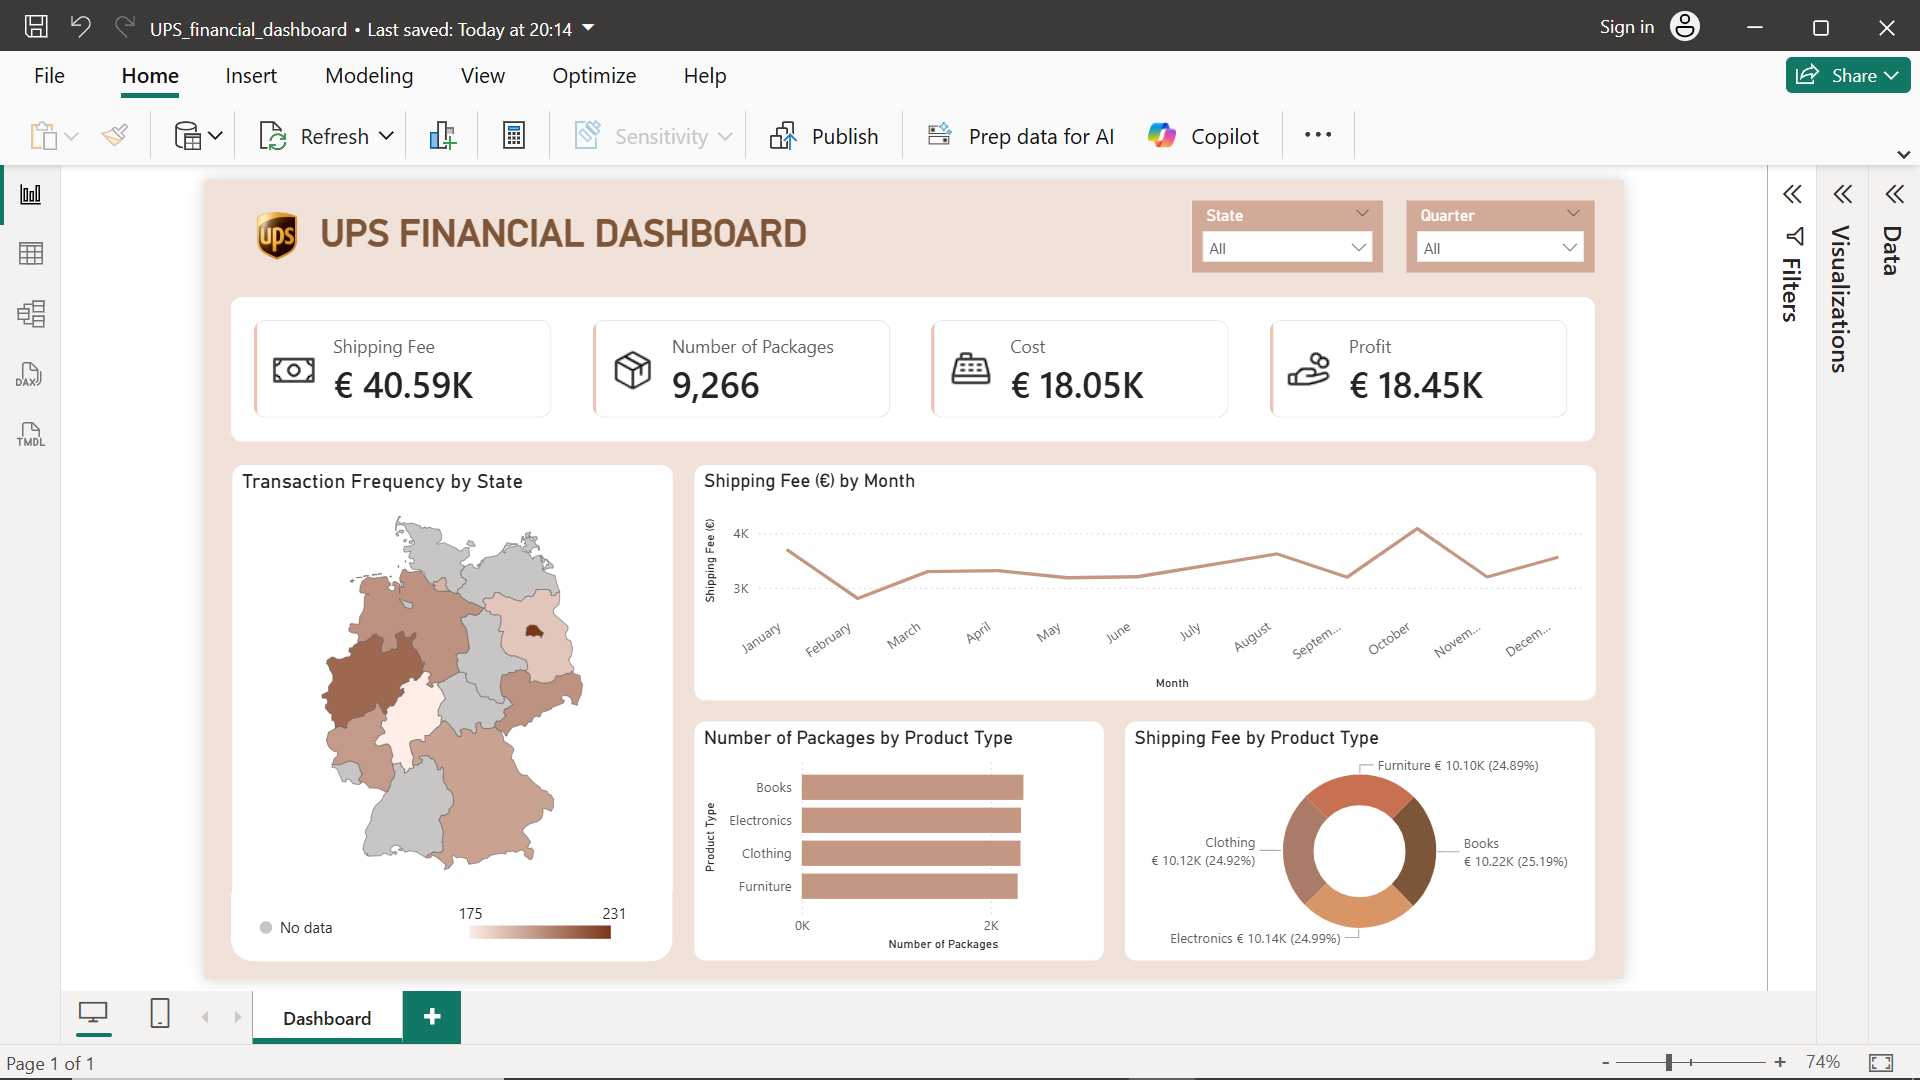

This screenshot's page, from the dashboard's own definition file:
{"tool":"powerbi","page":{"name":"Dashboard","canvas":[1280,720],"ordinal":0},"visuals":[{"type":"shape","box":[23.9,625.6,397.8,78.3],"z":0,"group":"g4"},{"type":"shapeMap","title":"Transaction Frequency by State ","fields":{"Category":["sales.State"],"Value":["CountNonNull(sales.State)"]},"box":[25,256.7,396.7,391.7],"z":1000,"group":"g5"},{"type":"lineChart","fields":{"Category":["sales.Shipment_Date.Variation.Date Hierarchy.Year","sales.Shipment_Date.Variation.Date Hierarchy.Quarter","sales.Shipment_Date.Variation.Date Hierarchy.Month","sales.Shipment_Date.Variation.Date Hierarchy.Day"],"Y":["Sum(sales.Shipping_Fee_EUR)"]},"box":[441.7,256.7,811.7,211.7],"z":2000},{"type":"cardVisual","fields":{"Data":["Sum(sales.Shipping_Fee_EUR)","Sum(sales.Number_of_Packages)","Sum(cost.Cost_EUR)","Sum(sales.Profit_EUR)"]},"box":[24.2,106.1,1228.8,130.3],"z":3000},{"type":"slicer","fields":{"Values":["sales.State"]},"box":[889.4,17.2,174.2,66.7],"z":4000},{"type":"slicer","fields":{"Values":["sales.Shipment_Date.Variation.Date Hierarchy.Quarter"]},"box":[1081.8,17.2,171.2,66.7],"z":5000},{"type":"barChart","fields":{"Category":["sales.Product_Type"],"Y":["Sum(sales.Number_of_Packages)"]},"box":[441.7,488.3,368.3,215],"z":6000},{"type":"donutChart","fields":{"Y":["Sum(sales.Shipping_Fee_EUR)"],"Category":["sales.Product_Type"]},"box":[830,488.3,423.3,215],"z":7000},{"type":"image","box":[13.6,8.2,104.5,84.8],"z":8000},{"type":"textbox","box":[100.3,22.6,538.6,55.9],"z":9000},{"type":"shape","box":[49.3,668.4,11.7,11.7],"z":10000,"group":"g1"},{"type":"image","box":[237.7,671.8,127.6,11.9],"z":10000,"group":"g2"},{"type":"textbox","box":[223.3,645.6,44.4,32.2],"z":11000,"group":"g2"},{"type":"textbox","box":[62.6,658.4,65,31.7],"z":11000,"group":"g1"},{"type":"textbox","box":[352.7,645.6,44.4,32.2],"z":12000,"group":"g2"},{"type":"group","id":"g1","title":"Group 1","box":[49.3,658.4,78.3,31.7],"z":13000,"group":"g3"},{"type":"group","id":"g2","title":"Group 2","box":[223.3,645.6,173.9,38.1],"z":14001,"group":"g3"},{"type":"group","id":"g3","title":"Group 3","box":[49.3,645.6,347.9,44.4],"z":14002,"group":"g4"},{"type":"group","id":"g4","title":"Group 4","box":[23.9,625.6,397.8,78.3],"z":14003,"group":"g5"},{"type":"group","id":"g5","title":"Group 5","box":[23.9,256.7,397.8,447.2],"z":14004}]}

Visuals, with their boxes on the page's 1280x720 design canvas (x1, y1, x2, y2). These are canvas units, not pixel positions in the 1920x1080 screenshot, which may show the page scaled, cropped or inside an application window:
shape: [left=24, top=626, right=422, bottom=704]
"Transaction Frequency by State " shapeMap: [left=25, top=257, right=422, bottom=648]
lineChart - sales.Shipment_Date.Variation.Date Hierarchy.Year x sales.Shipment_Date.Variation.Date Hierarchy.Quarter: [left=442, top=257, right=1253, bottom=468]
cardVisual - Sum(sales.Shipping_Fee_EUR) x Sum(sales.Number_of_Packages): [left=24, top=106, right=1253, bottom=236]
slicer - sales.State: [left=889, top=17, right=1064, bottom=84]
slicer - sales.Shipment_Date.Variation.Date Hierarchy.Quarter: [left=1082, top=17, right=1253, bottom=84]
barChart - sales.Product_Type x Sum(sales.Number_of_Packages): [left=442, top=488, right=810, bottom=703]
donutChart - Sum(sales.Shipping_Fee_EUR) x sales.Product_Type: [left=830, top=488, right=1253, bottom=703]
image: [left=14, top=8, right=118, bottom=93]
textbox: [left=100, top=23, right=639, bottom=78]
shape: [left=49, top=668, right=61, bottom=680]
image: [left=238, top=672, right=365, bottom=684]
textbox: [left=223, top=646, right=268, bottom=678]
textbox: [left=63, top=658, right=128, bottom=690]
textbox: [left=353, top=646, right=397, bottom=678]
"Group 1" group: [left=49, top=658, right=128, bottom=690]
"Group 2" group: [left=223, top=646, right=397, bottom=684]
"Group 3" group: [left=49, top=646, right=397, bottom=690]
"Group 4" group: [left=24, top=626, right=422, bottom=704]
"Group 5" group: [left=24, top=257, right=422, bottom=704]
